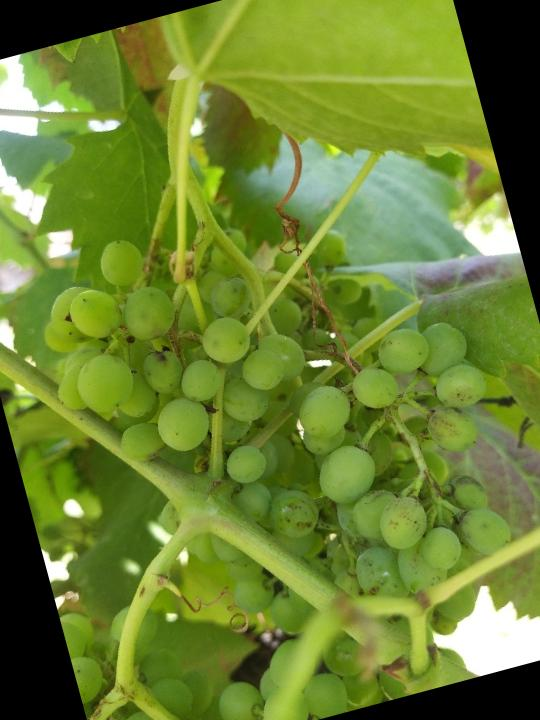grape: (13, 153, 540, 720)
